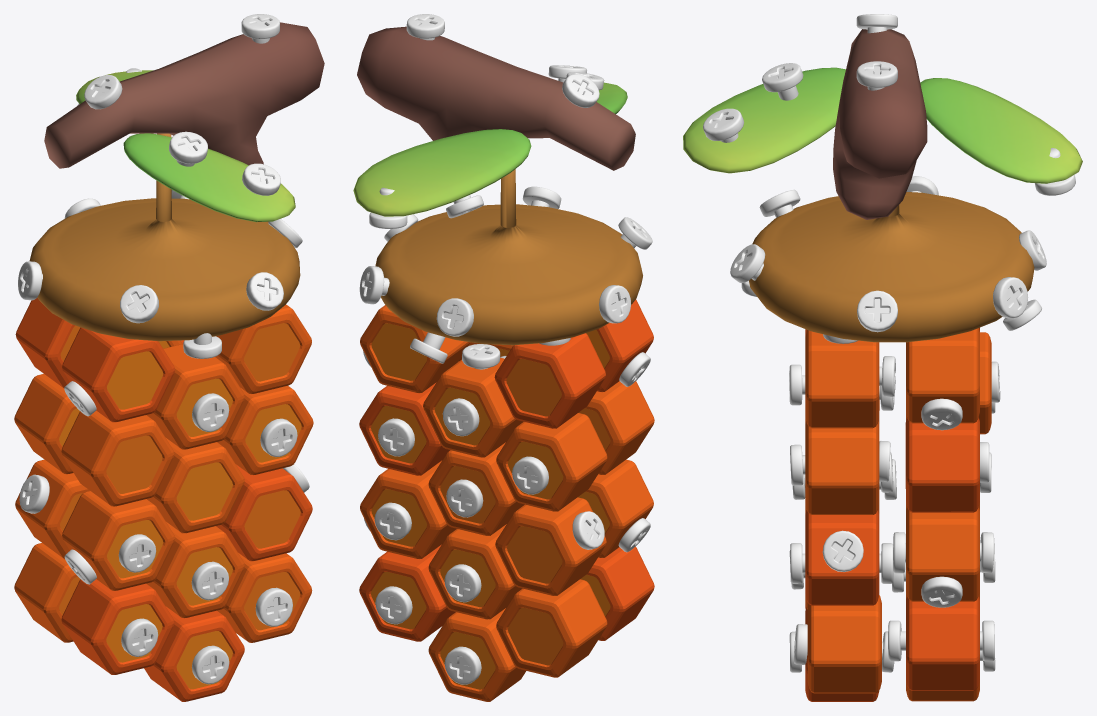
File: Level_7.fbx
The picture shows the model from 3 angles, left to right: view 1: azimuth 30°, elevation 25°; view 2: azimuth 150°, elevation 25°; view 3: azimuth 270°, elevation 25°; orthographic projection. The views are drawn at different scales.
Visible parts, largest first — view 1: cube 24, Cube.008, cube 4, cube 5, Cube.002, cube 10, cube 11, cube, cube 7, cube 2, cube 3, cube 6 (+25 smaller); view 2: cube 24, Cube.008, Cube.003, cube 20, cube 13, cube 19, cube 14, cube 15, cube 17, cube 23, cube 22, cube 18 (+30 smaller); view 3: cube 24, Cube.008, Cube.003, Cube.002, cube 2, cube 8, cube 16, cube 1, cube 22, cube 23, cube 17, cube 7 (+19 smaller).
Boxes of the visible parts, x1=… form: cube 24: x1=29, y1=133, x2=300, y2=341; Cube.008: x1=44, y1=22, x2=324, y2=168; cube 4: x1=61, y1=410, x2=174, y2=506; cube 5: x1=62, y1=327, x2=174, y2=422; Cube.002: x1=123, y1=133, x2=295, y2=222; cube 10: x1=61, y1=579, x2=174, y2=674; cube 11: x1=62, y1=491, x2=174, y2=590; cube: x1=147, y1=437, x2=244, y2=533; cube 7: x1=216, y1=464, x2=312, y2=561; cube 2: x1=215, y1=304, x2=311, y2=393; cube 3: x1=146, y1=344, x2=244, y2=449; cube 6: x1=144, y1=606, x2=244, y2=701; cube 24: x1=375, y1=169, x2=642, y2=345; Cube.008: x1=357, y1=26, x2=635, y2=170; Cube.003: x1=353, y1=129, x2=531, y2=216; cube 20: x1=496, y1=579, x2=607, y2=677; cube 13: x1=494, y1=333, x2=605, y2=428; cube 19: x1=495, y1=497, x2=606, y2=595; cube 14: x1=496, y1=413, x2=607, y2=511; cube 15: x1=423, y1=357, x2=523, y2=457; cube 17: x1=360, y1=305, x2=470, y2=393; cube 23: x1=360, y1=460, x2=456, y2=559; cube 22: x1=359, y1=544, x2=455, y2=641; cube 18: x1=428, y1=608, x2=525, y2=701; cube 24: x1=749, y1=192, x2=1034, y2=342; Cube.008: x1=833, y1=29, x2=927, y2=219; Cube.003: x1=920, y1=78, x2=1082, y2=183; Cube.002: x1=683, y1=67, x2=845, y2=173; cube 2: x1=805, y1=330, x2=879, y2=428; cube 8: x1=807, y1=595, x2=881, y2=693; cube 16: x1=905, y1=417, x2=979, y2=512; cube 1: x1=805, y1=421, x2=879, y2=514; cube 22: x1=906, y1=596, x2=979, y2=690; cube 23: x1=906, y1=506, x2=979, y2=601; cube 17: x1=906, y1=328, x2=979, y2=423; cube 7: x1=805, y1=510, x2=879, y2=605.
Size of the model in its own units: 5.88 by 12.59 by 6.82.
